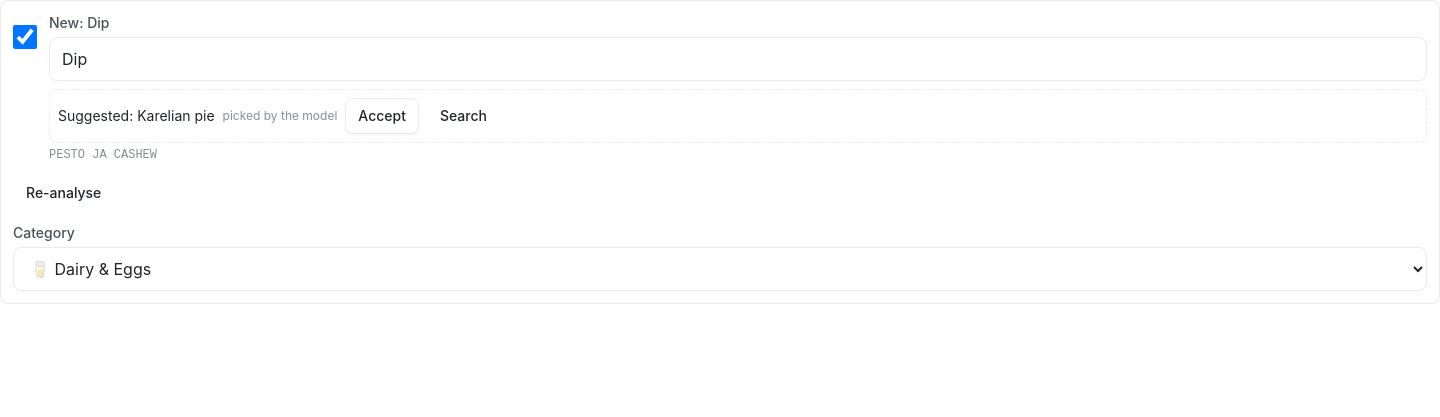
suggested rows (CL8 L1) › Search opens the product search
The image size is (1440, 417).
Click the button with aria-label "Search a product for PESTO JA CASHEW". click: (463, 116)
box: [427,98,500,134]
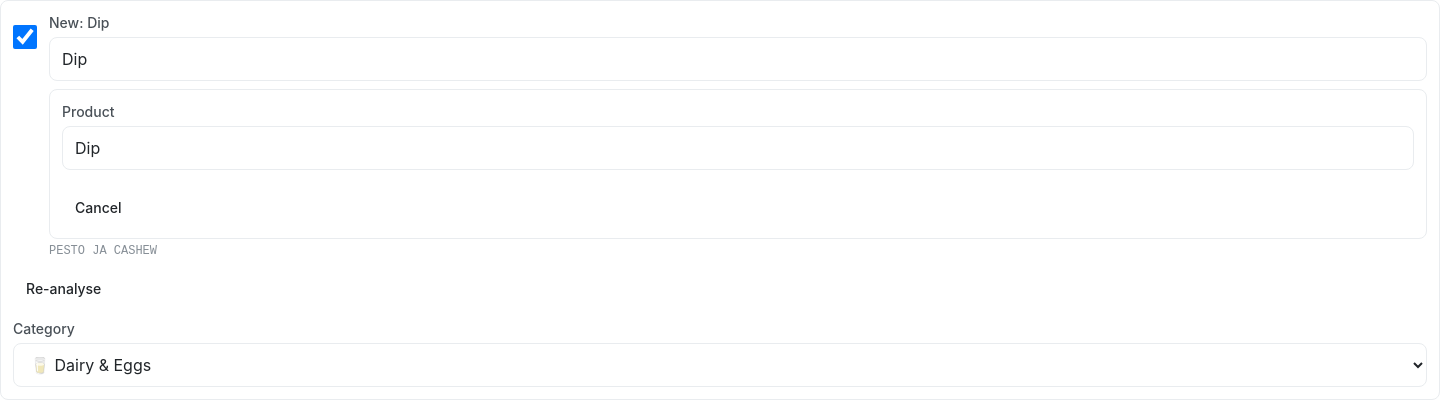
Expected: the search field with id "row-0-search" is shown, [62,126,1414,170]
